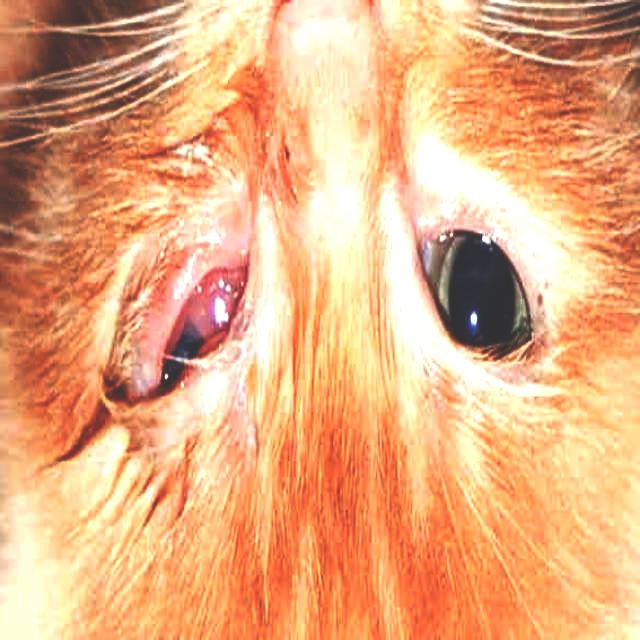eye_infection: (412, 225, 538, 359), (158, 261, 239, 390)
